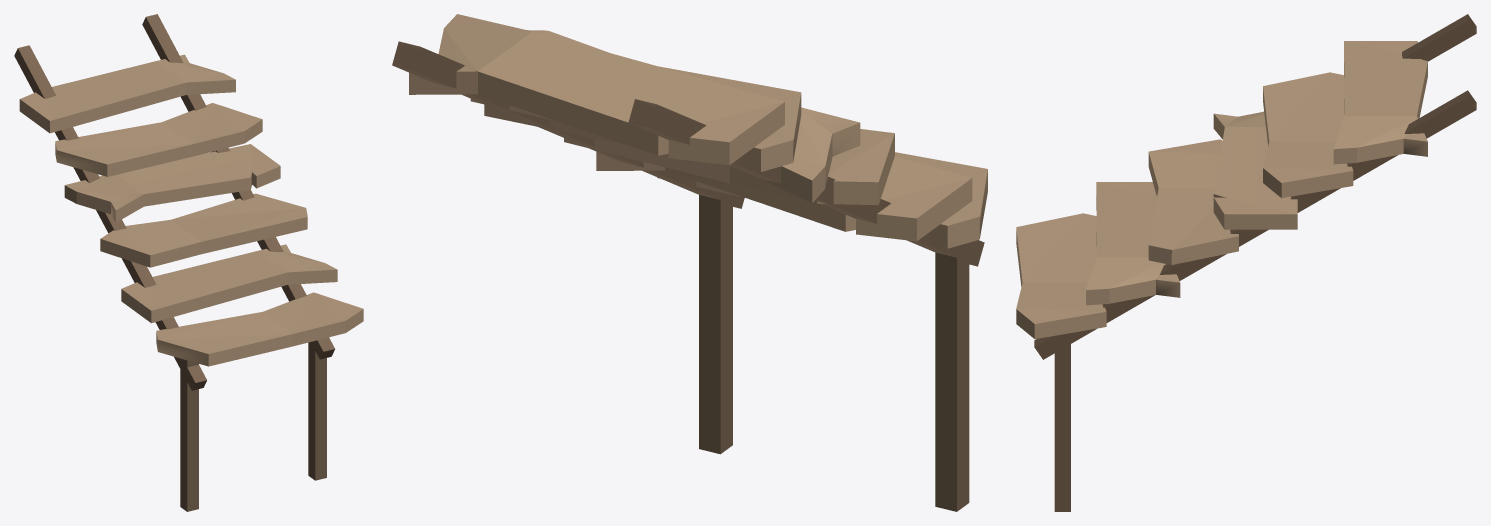
Rendered from Stairs_6.fbx.
3 renders of one model, left to right at view 1: azimuth 30°, elevation 25°; view 2: azimuth 150°, elevation 25°; view 3: azimuth 270°, elevation 25°, orthographic. The views are drawn at different scales.
Visible parts, largest first — view 1: Stairs_6; view 2: Stairs_6; view 3: Stairs_6.
Part boxes in pixels (x1=…): Stairs_6: x1=14, y1=14, x2=363, y2=511; Stairs_6: x1=392, y1=14, x2=987, y2=511; Stairs_6: x1=1016, y1=14, x2=1476, y2=511.
Bounding box in the file's own units: 129 × 224 × 225.
Materials: 1 (1 with a texture image).
